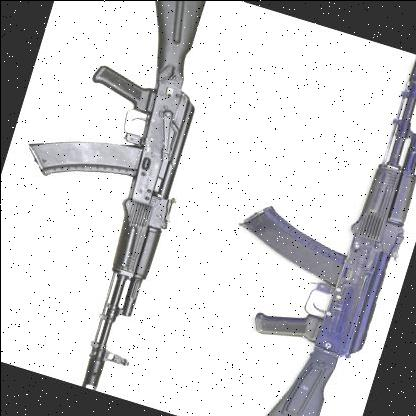rifle: (0, 0, 273, 408), (173, 17, 416, 416)
